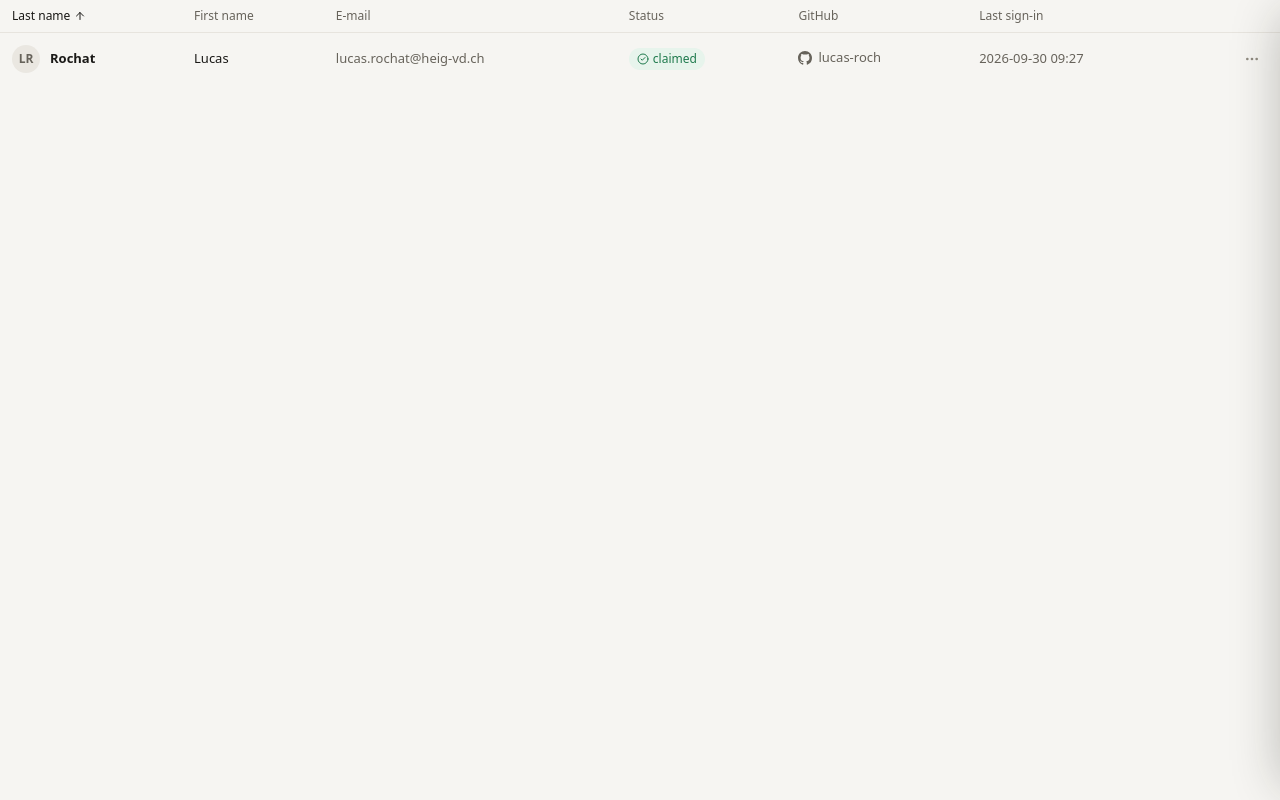
Scenario: RosterTable pending actions › disables Remove from roster the same way
Click the button named "Actions for Lucas Rochat". click: (1252, 59)
box: [1236, 43, 1268, 75]
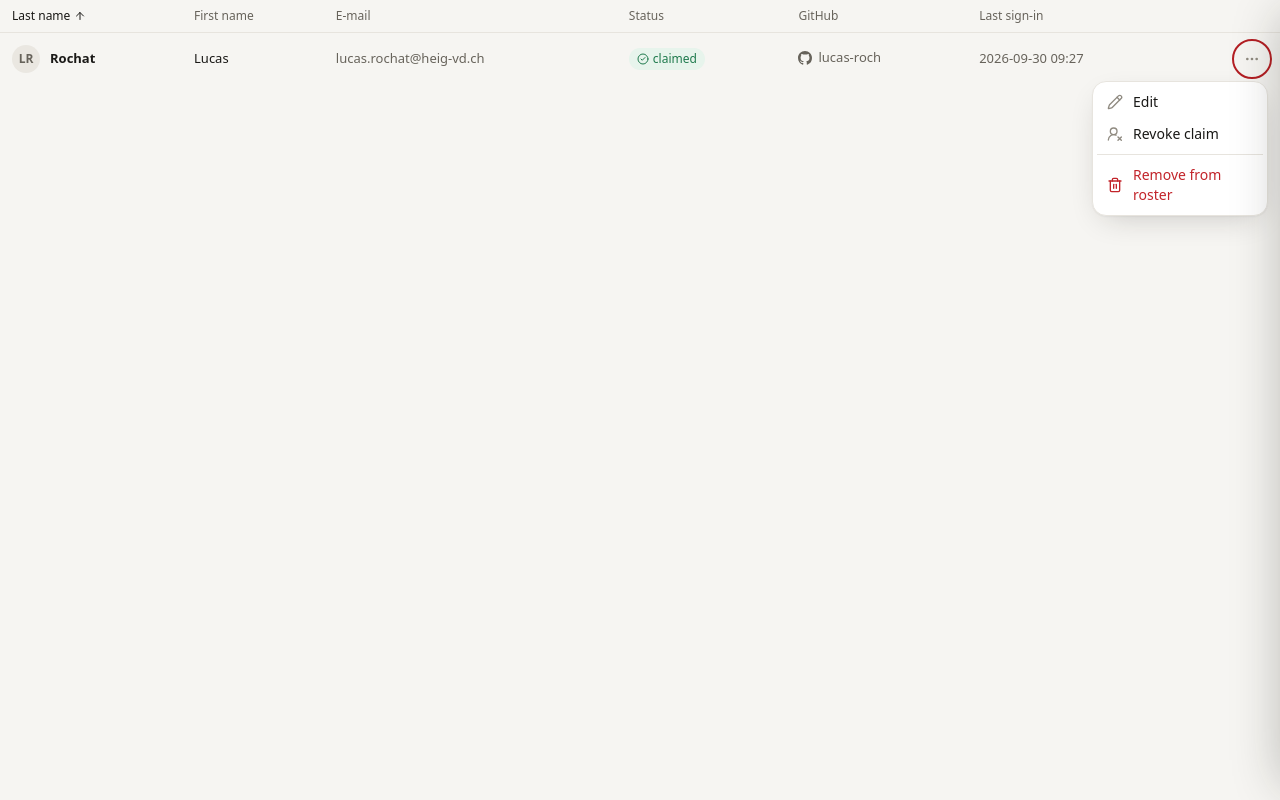
Click the menu item "Remove from roster". click: (1180, 185)
box: [1097, 159, 1263, 211]
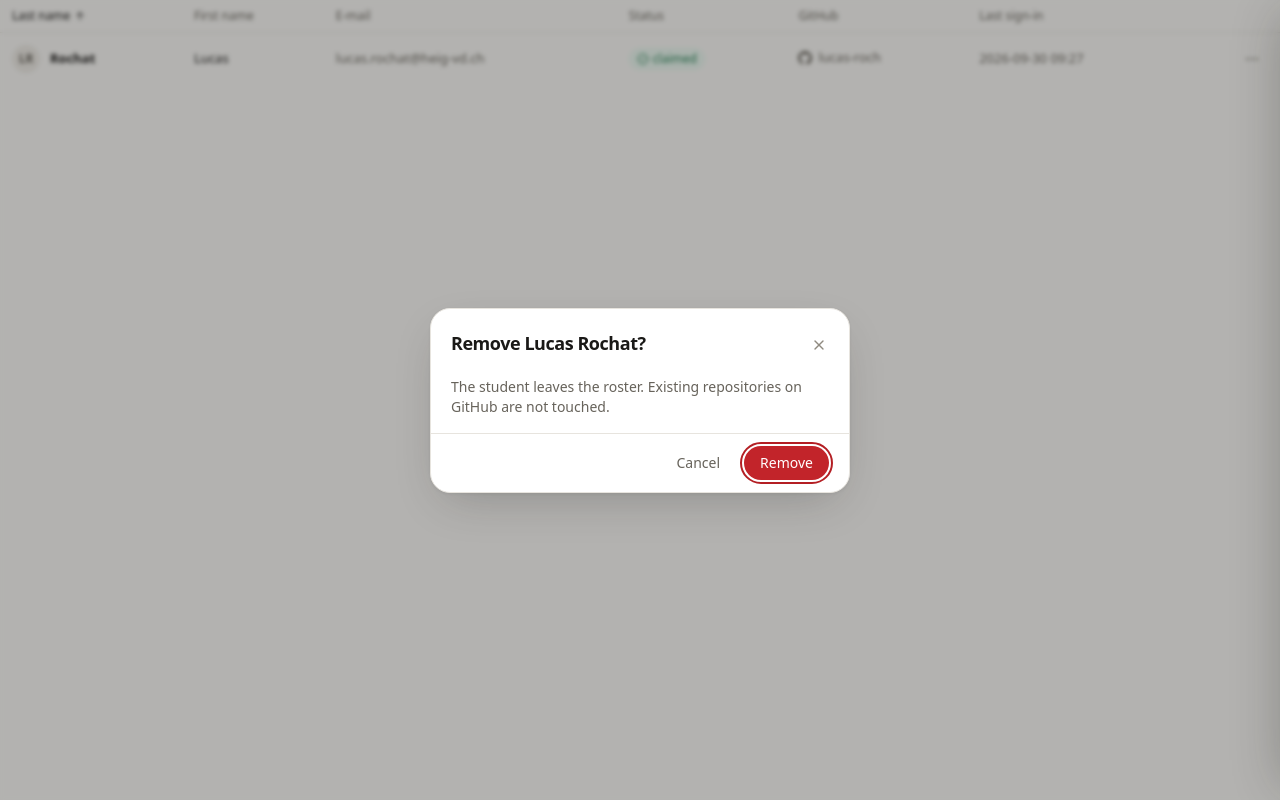
Click the button "Remove". click: (787, 462)
box: [744, 446, 829, 480]
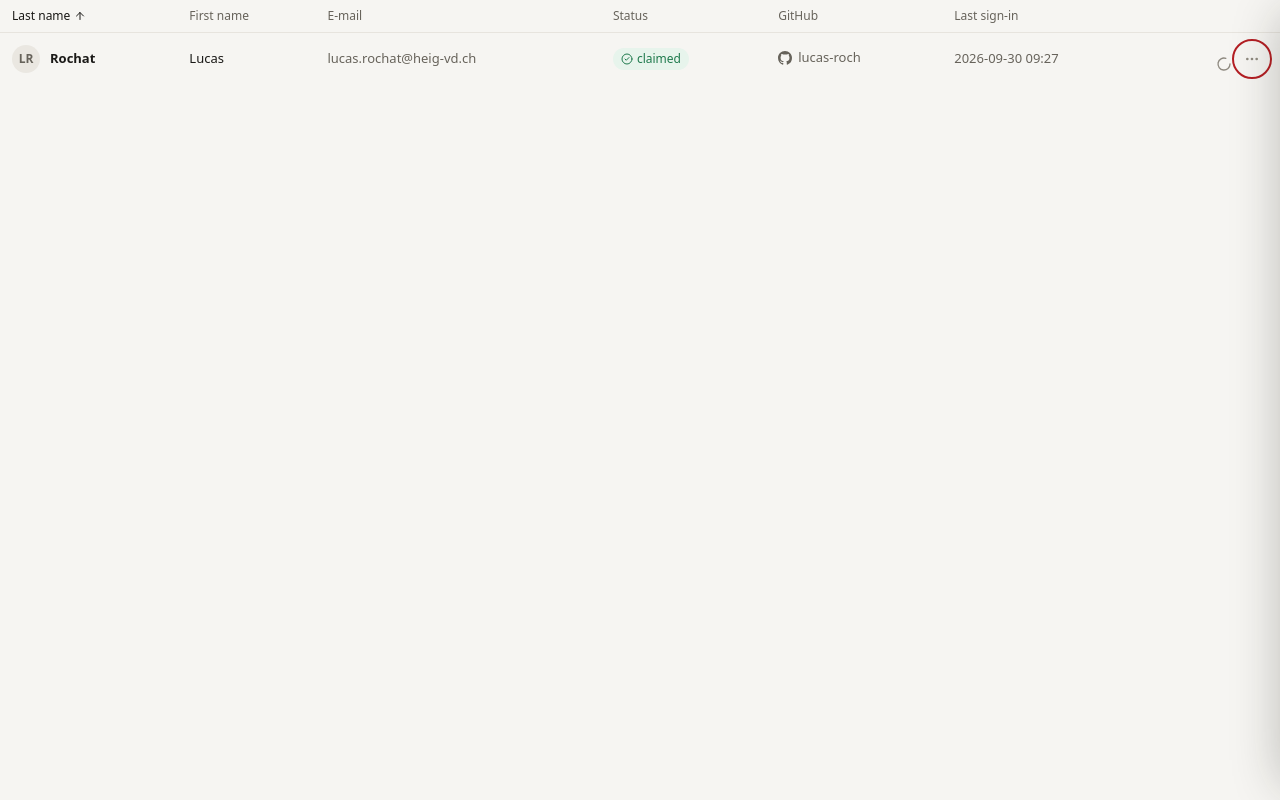
Expected: the icon named "Working…" is shown, [1216, 56, 1232, 72]
Click the button named "Actions for Lucas Rochat". click: (1252, 59)
box: [1236, 43, 1268, 75]
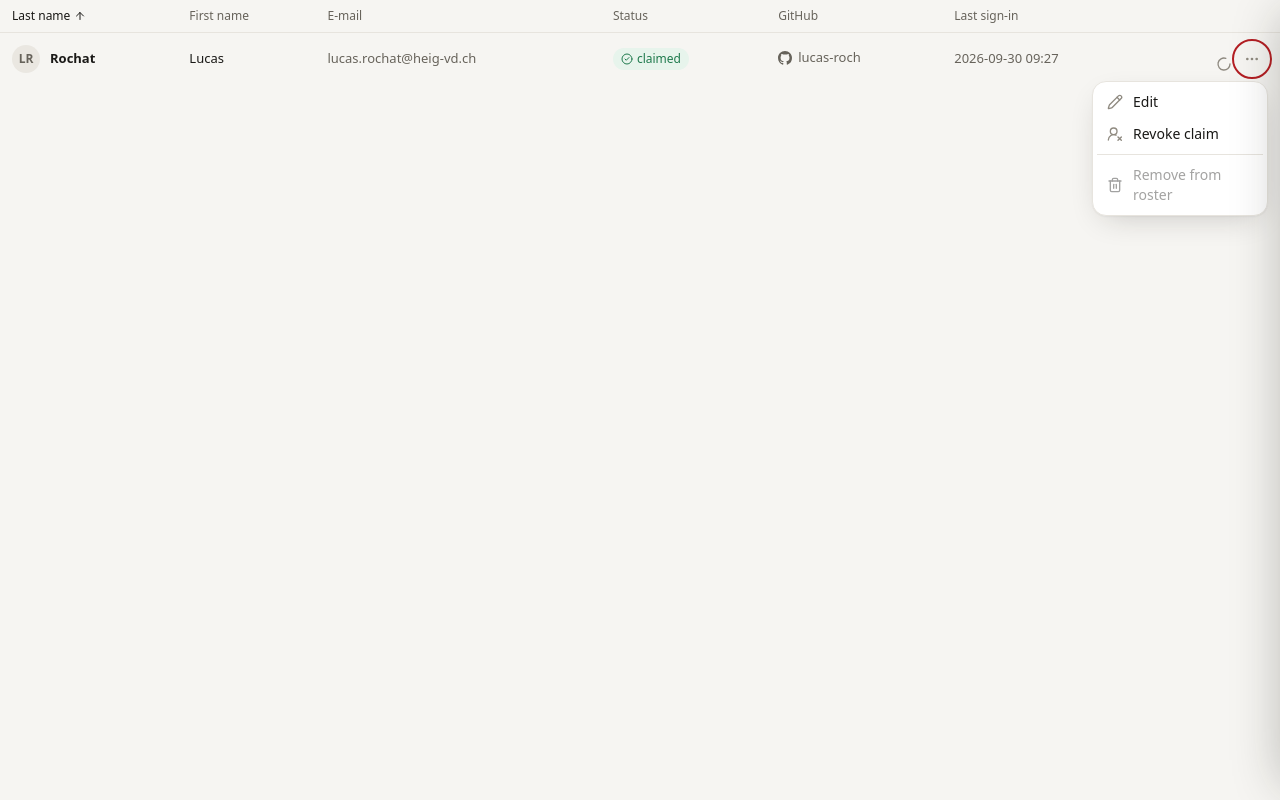
Expected: the menu item "Remove from roster" is disabled, [1097, 159, 1263, 211]
